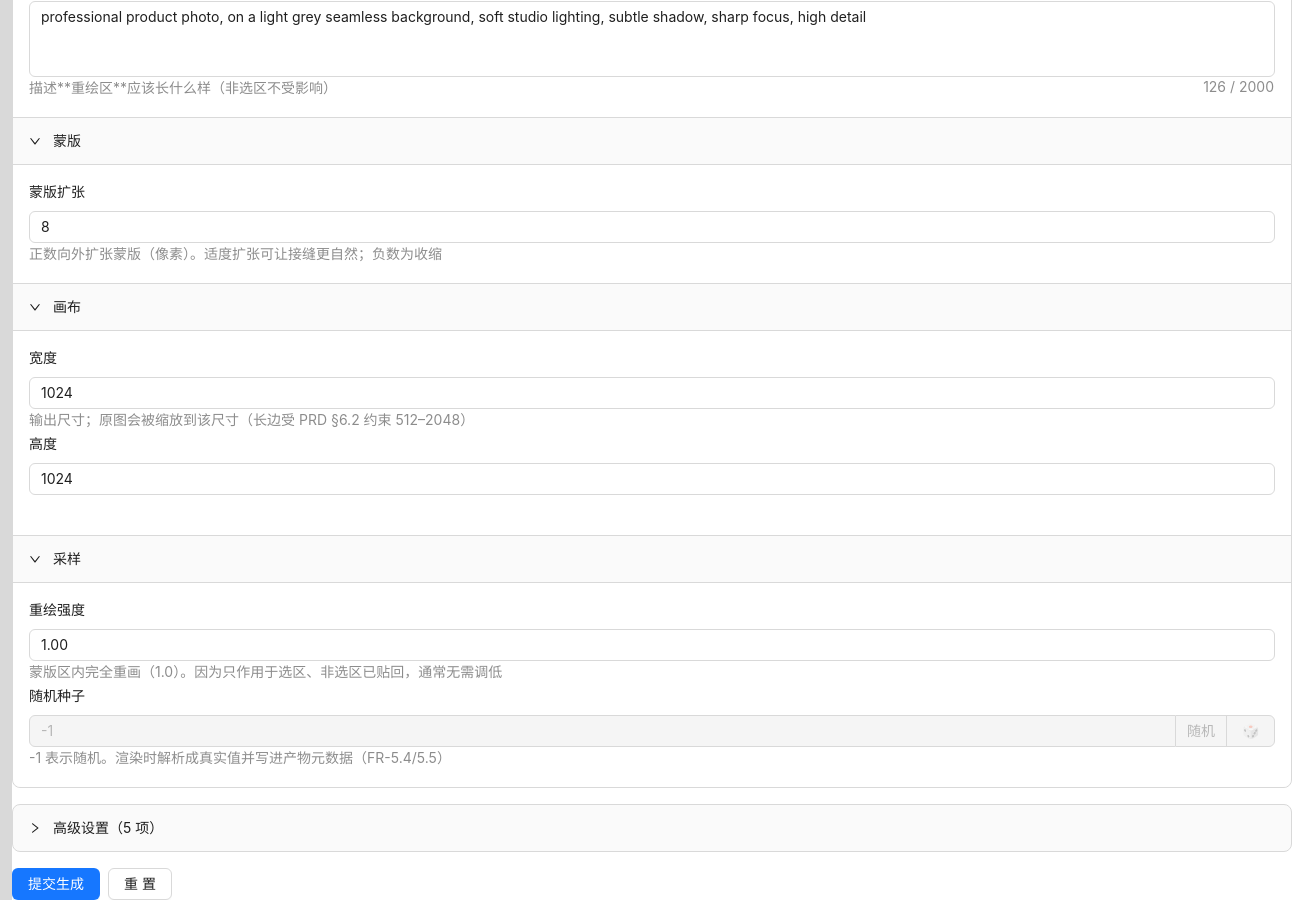
Test: 校验拦截 › 缺参考图时不提交，并显示错误
(page scrolled)
Click the button "提交生成": (56, 884) [12, 868, 100, 899]
(page scrolled)
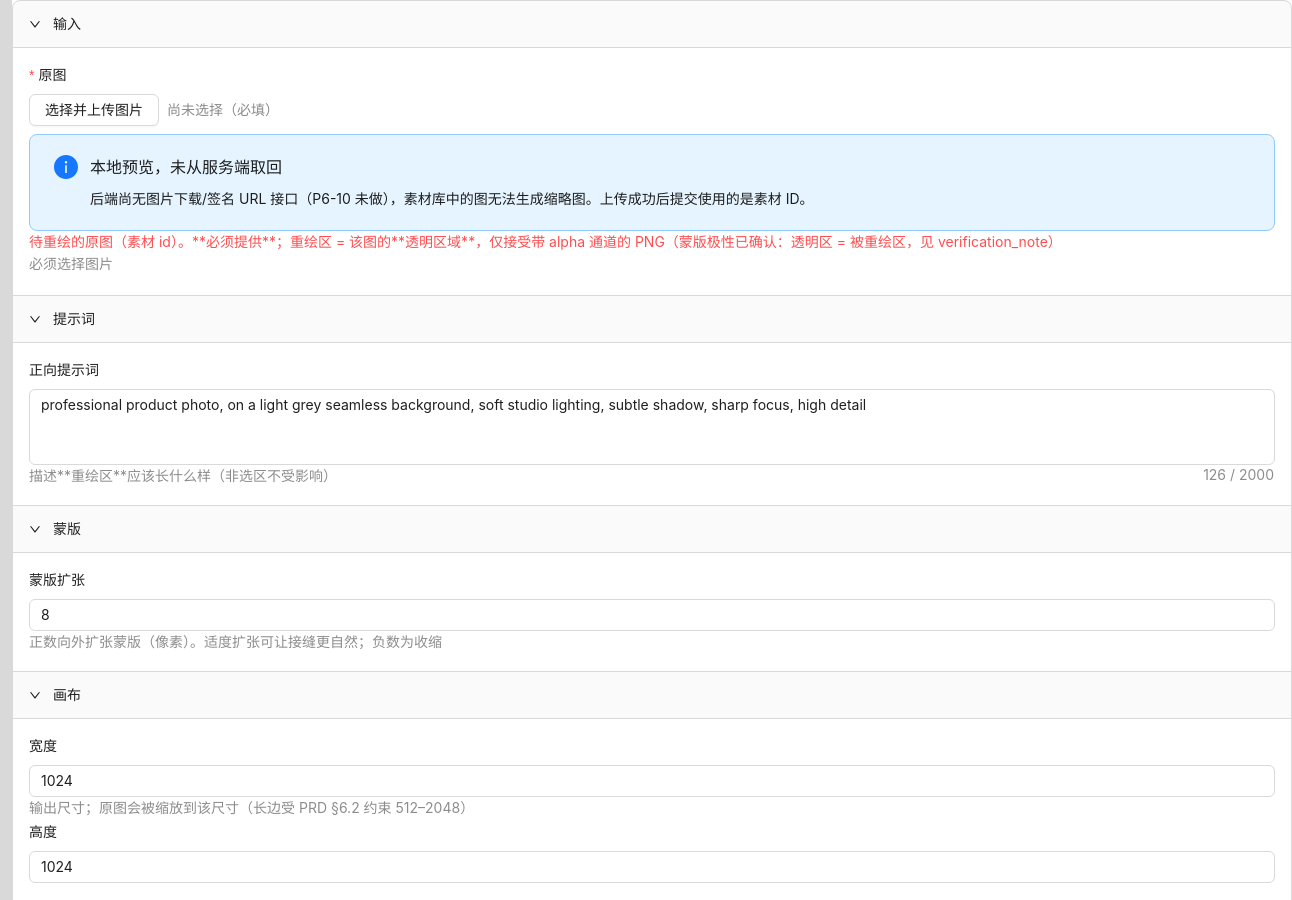
Check: the text "必须选择图片" is shown, box [29, 255, 113, 272]
